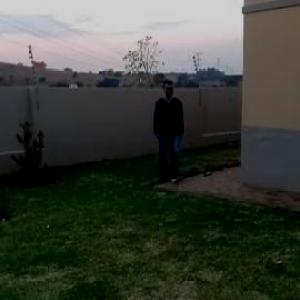follow: (149, 77, 187, 192)
